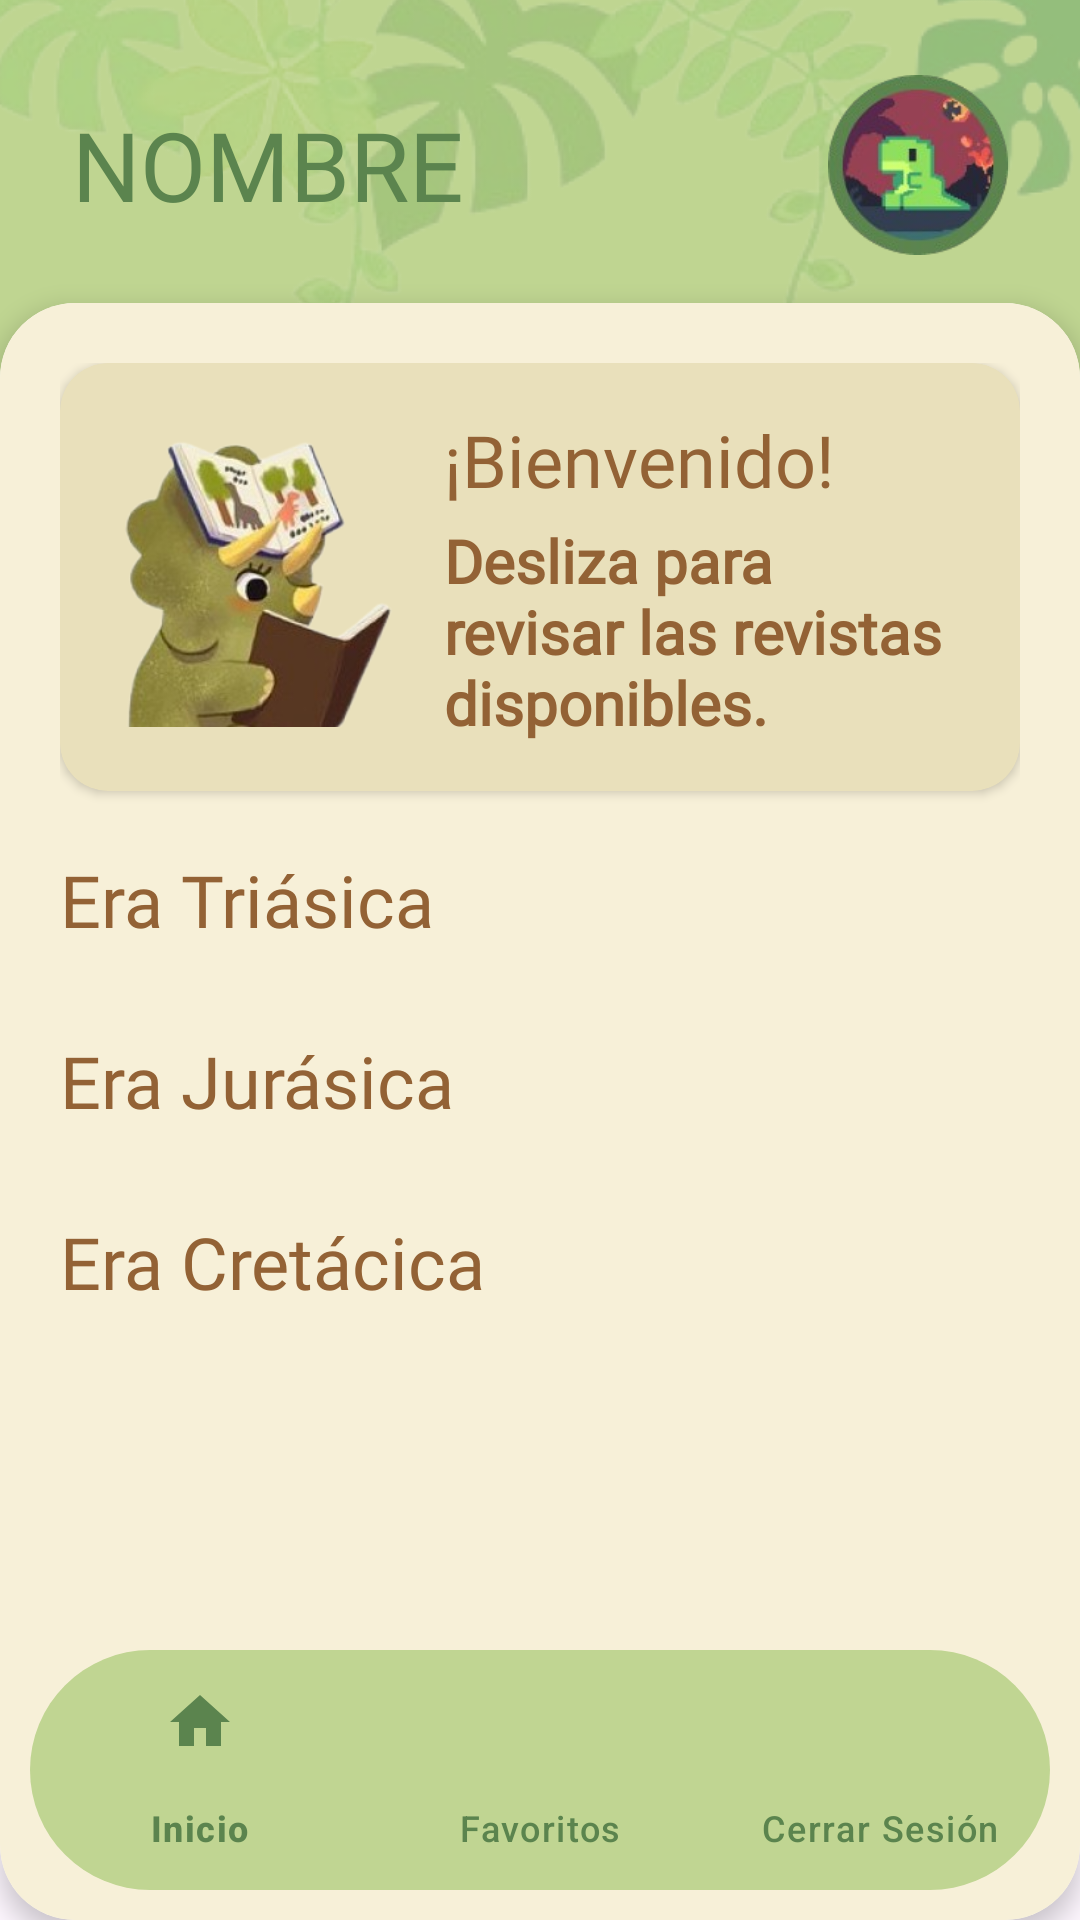

Point at icon controls on the screen. Image size 1080 × 1920, points as (x,y).
dinolibro: (258,585)
perfil: (918,165)
